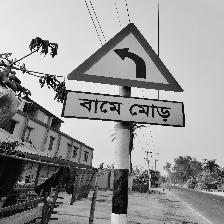Left-Turn: (64, 23, 186, 129)
